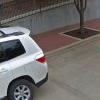Car: (3, 20, 52, 99)
